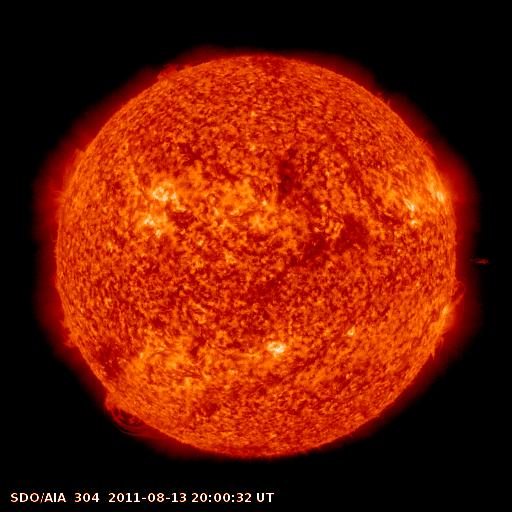prominence: (425, 253, 490, 365), (36, 136, 89, 243), (95, 384, 162, 444), (49, 315, 92, 357), (151, 55, 198, 84)
